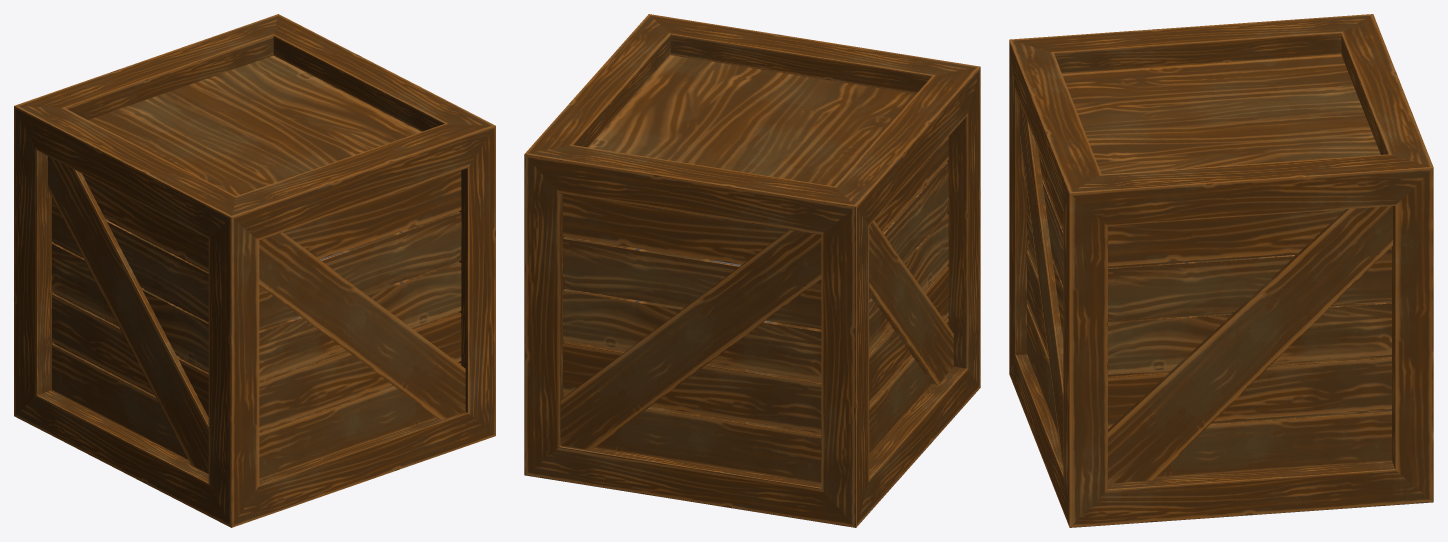
The picture shows the model from 3 angles, left to right: view 1: azimuth 30°, elevation 25°; view 2: azimuth 150°, elevation 25°; view 3: azimuth 270°, elevation 25°; orthographic projection. The views are drawn at different scales.
Parts seen in each view (by area): view 1: Cube.2134; view 2: Cube.2134; view 3: Cube.2134.
Part boxes in pixels (<box>): Cube.2134: <box>14,14,495,527</box>; Cube.2134: <box>524,14,980,527</box>; Cube.2134: <box>1009,14,1433,527</box>.
Bounding box in the file's own units: 153 × 133 × 153.
1 material, 1 textured.
